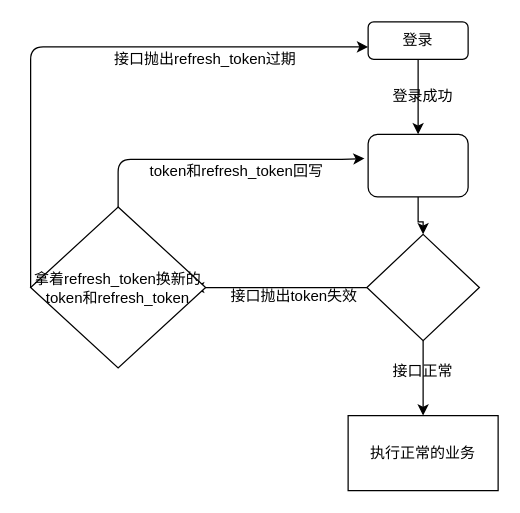
Some shapes in this 520 by 513 pixel diagram are drawn without their labels. The shapes that lost their labels are listed below. From the top down, each one's centre as x and y in pixels, then its label:
At (x=417, y=165): "token refresh_token".
At (x=422, y=287): "正常请求接口".
